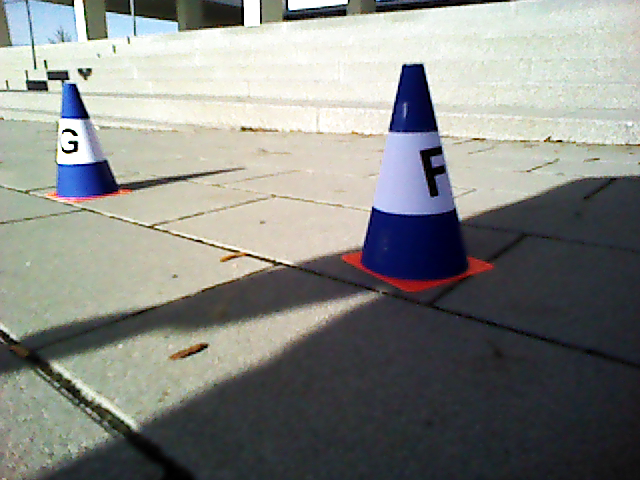bluecone: (364, 63, 461, 268), (55, 84, 117, 196)
